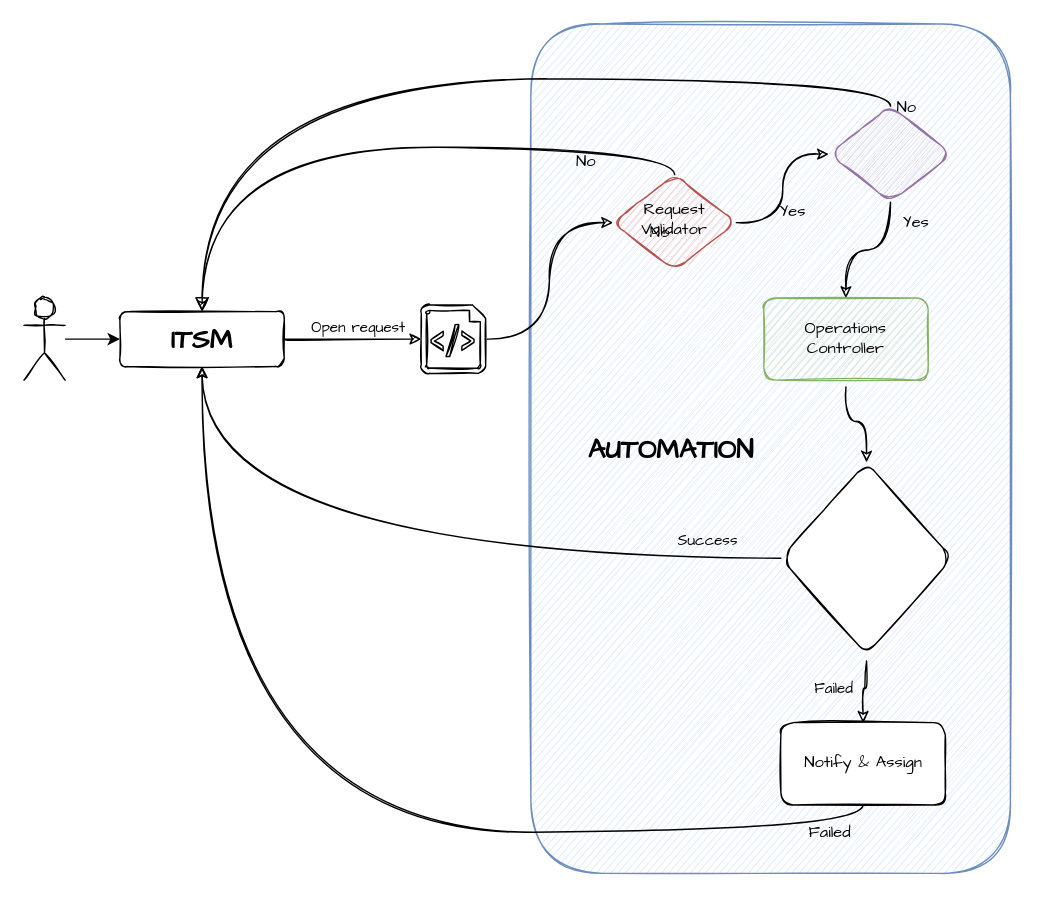
This 1048x897 diagram has some shape labels left out. Each missing label, with the centre of its shape:
Actor: point 44,338
Approvement: point 889,153
Tests?: point 866,557
